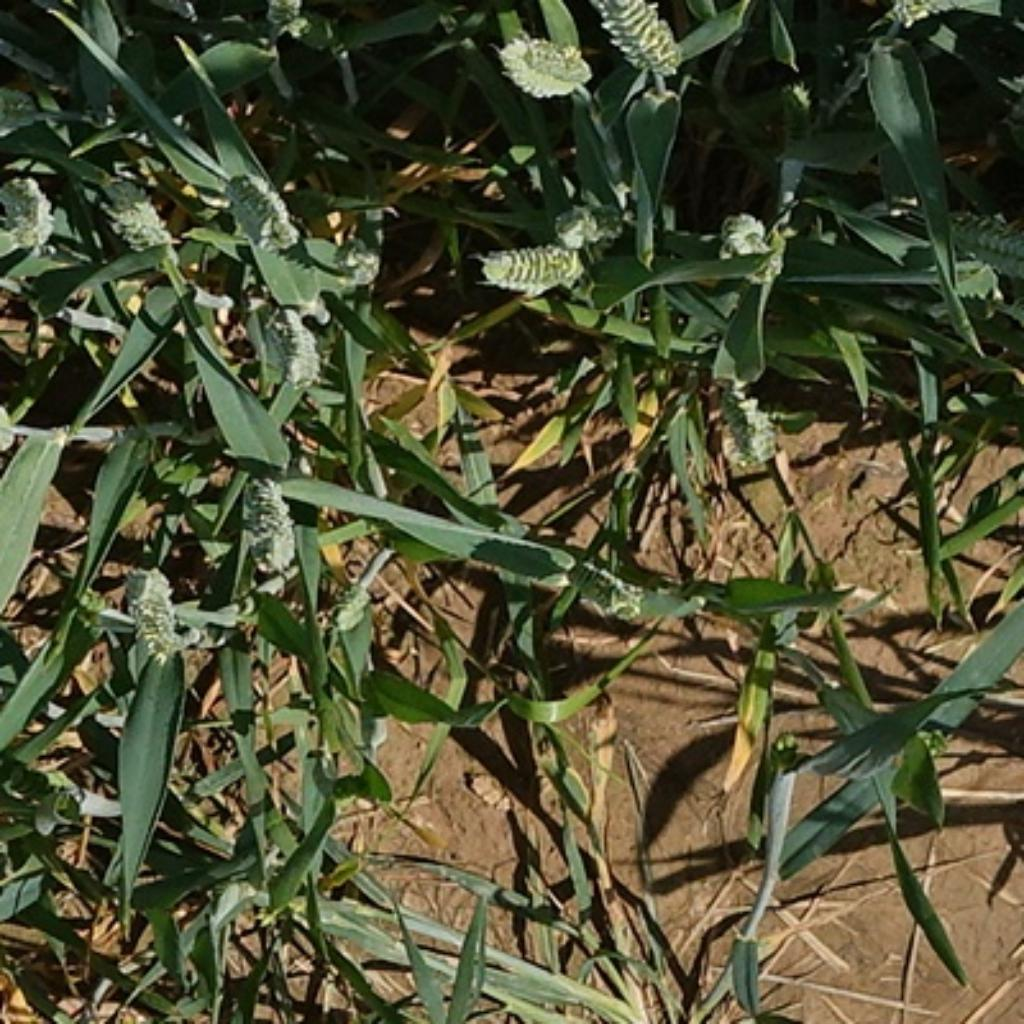0-0: (686, 363, 783, 468), (230, 289, 330, 389), (212, 158, 302, 256), (581, 0, 688, 79), (220, 465, 302, 565), (491, 25, 591, 102), (473, 230, 586, 296), (540, 189, 634, 261), (944, 199, 1024, 279), (120, 563, 189, 655), (568, 552, 645, 629), (97, 179, 171, 253), (2, 166, 61, 258), (706, 199, 778, 266), (321, 234, 397, 290), (325, 573, 373, 634), (245, 0, 325, 35), (872, 0, 952, 28)
